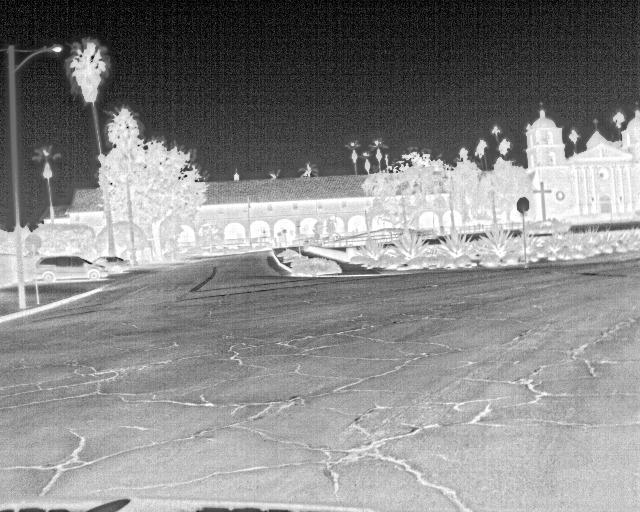car: (31, 255, 107, 282), (93, 254, 130, 276)
